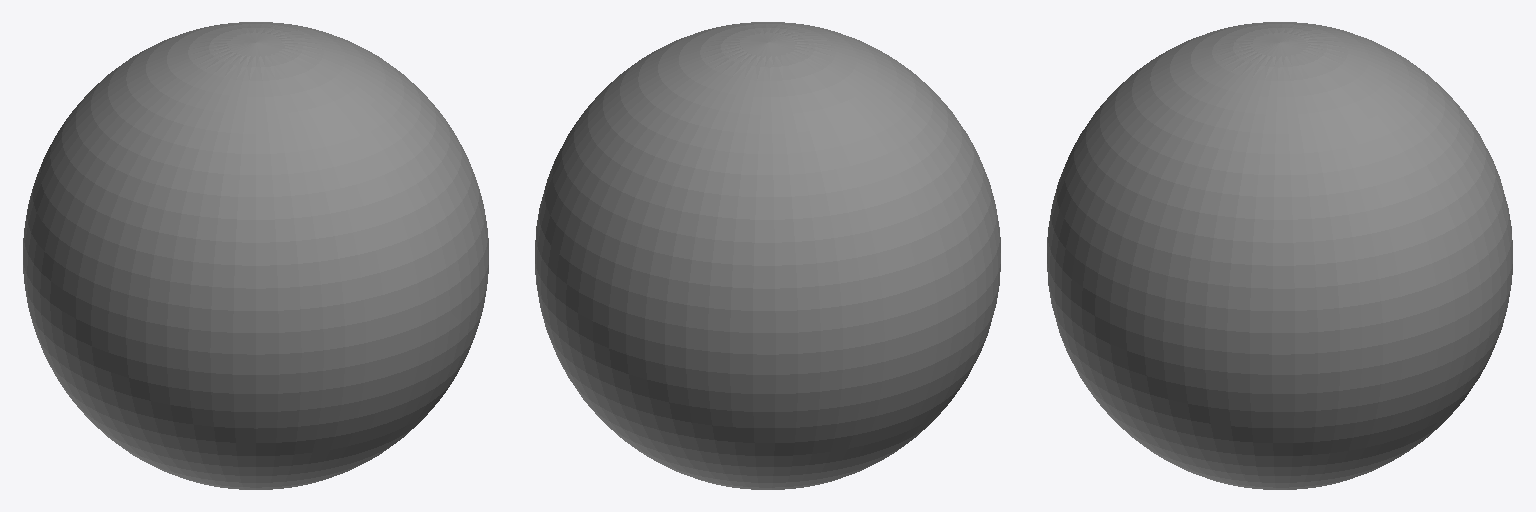
The model's file is gAS_GIANT_01.obj.
The picture shows the model from 3 angles: view 1: azimuth 30°, elevation 25°; view 2: azimuth 150°, elevation 25°; view 3: azimuth 270°, elevation 25°; orthographic projection.
Parts seen in each view (by area): view 1: Sphere001; view 2: Sphere001; view 3: Sphere001.
Boxes of the visible parts, box(x1,y1,x2,y2) form: Sphere001: box(23, 22, 488, 489); Sphere001: box(535, 22, 1000, 489); Sphere001: box(1047, 22, 1512, 489).
Size of the model in its own units: 154 by 155 by 154.